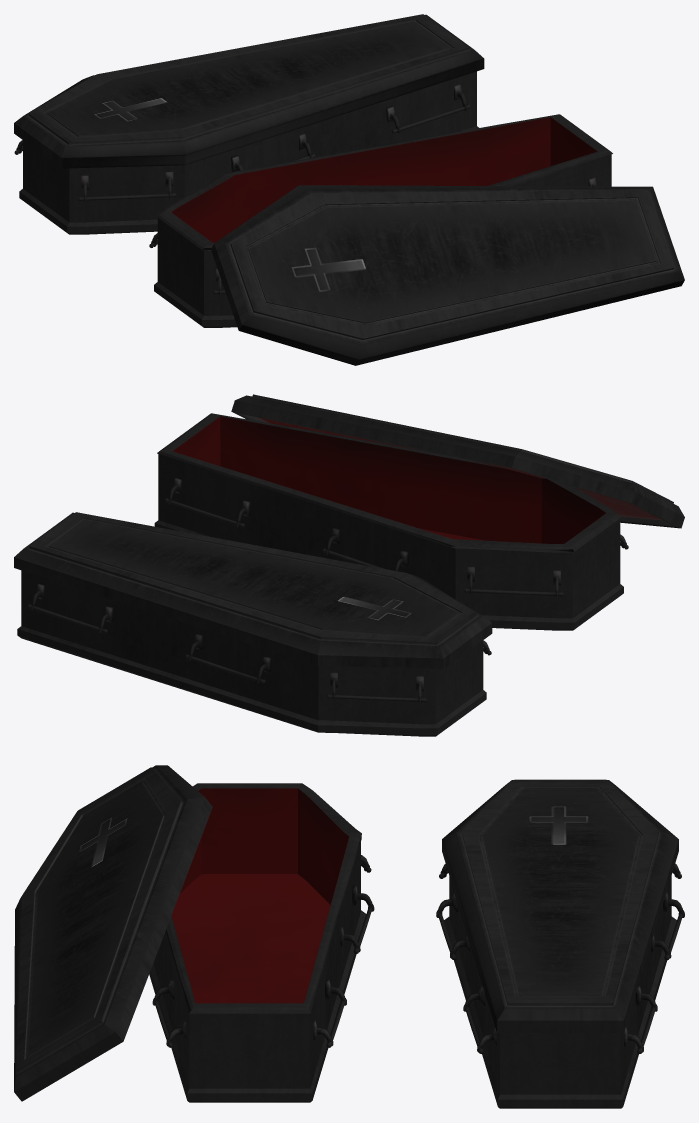
3 views of the same model, one above another, from view 1: azimuth 30°, elevation 25°; view 2: azimuth 150°, elevation 25°; view 3: azimuth 270°, elevation 25° (orthographic). The views are drawn at different scales.
Visible parts, largest first — view 1: lid1, lid, coffin2, coffin; view 2: coffin2, lid, coffin, lid1; view 3: coffin2, lid, lid1, coffin.
Boxes of the visible parts, bbox=[...] form: lid1: bbox=[211, 185, 684, 365]; lid: bbox=[14, 14, 484, 168]; coffin2: bbox=[149, 114, 612, 327]; coffin: bbox=[14, 71, 478, 234]; coffin2: bbox=[154, 413, 628, 630]; lid: bbox=[14, 512, 492, 669]; coffin: bbox=[17, 570, 491, 736]; lid1: bbox=[231, 394, 684, 528]; coffin2: bbox=[149, 783, 374, 1102]; lid: bbox=[442, 779, 678, 1032]; lid1: bbox=[14, 765, 212, 1101]; coffin: bbox=[436, 863, 684, 1108].
Bounding box in the file's own units: 0.0554 × 0.015 × 0.0654.
3 materials, 3 textured.
